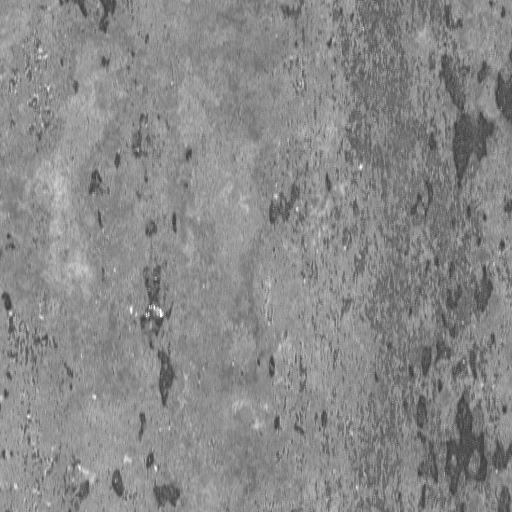xingxingliewen: (437, 52, 512, 193), (442, 394, 512, 498)
